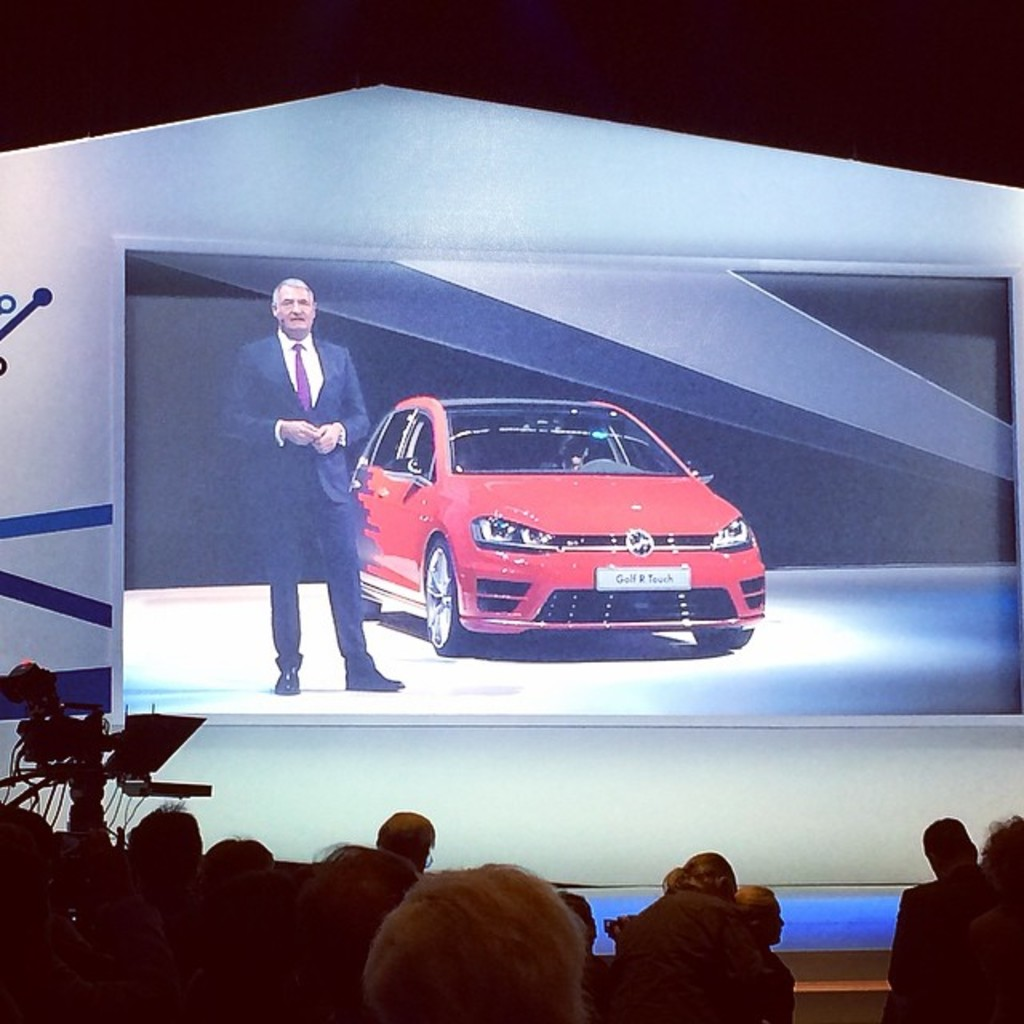Car: (331, 388, 775, 679)
